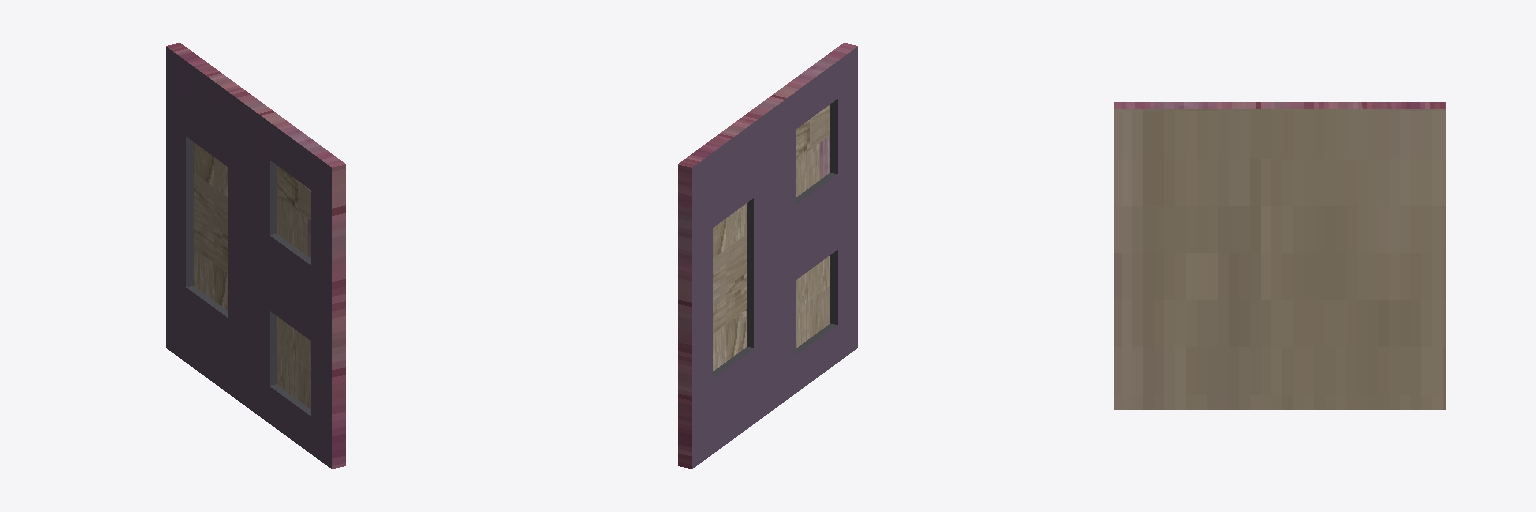
The picture shows the model from 3 angles: view 1: azimuth 30°, elevation 25°; view 2: azimuth 150°, elevation 25°; view 3: azimuth 270°, elevation 25°; orthographic projection.
Parts seen in each view (by area): view 1: Plane; view 2: Plane; view 3: Plane.
Part boxes in pixels (left/top/right/bottom): Plane: left=166, top=43, right=345, bottom=468; Plane: left=678, top=43, right=857, bottom=468; Plane: left=1114, top=102, right=1445, bottom=409.
Size of the model in its own units: 3 by 60 by 60.
1 materials, 1 textured.